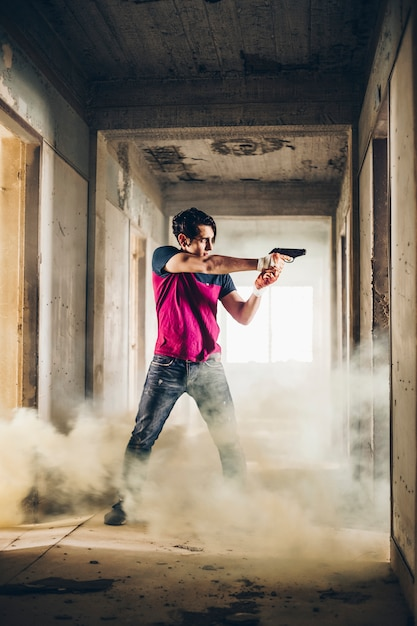gun: (268, 245, 308, 266)
